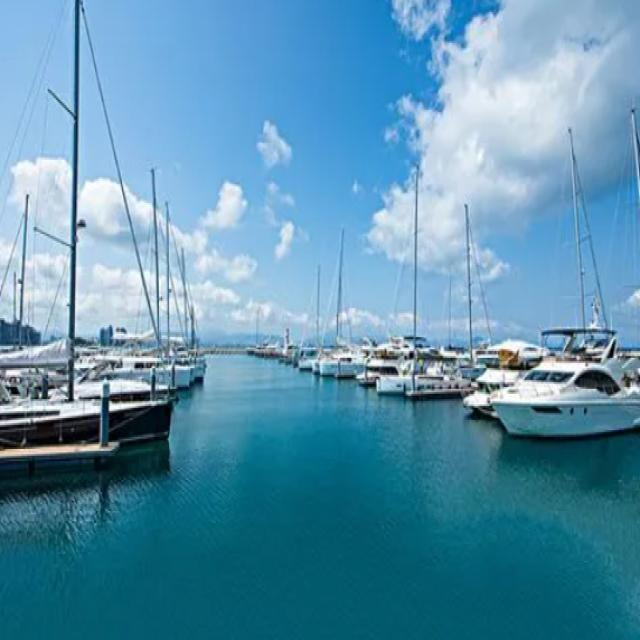houseboat: (490, 315, 640, 440), (462, 348, 534, 416), (357, 338, 420, 388)
